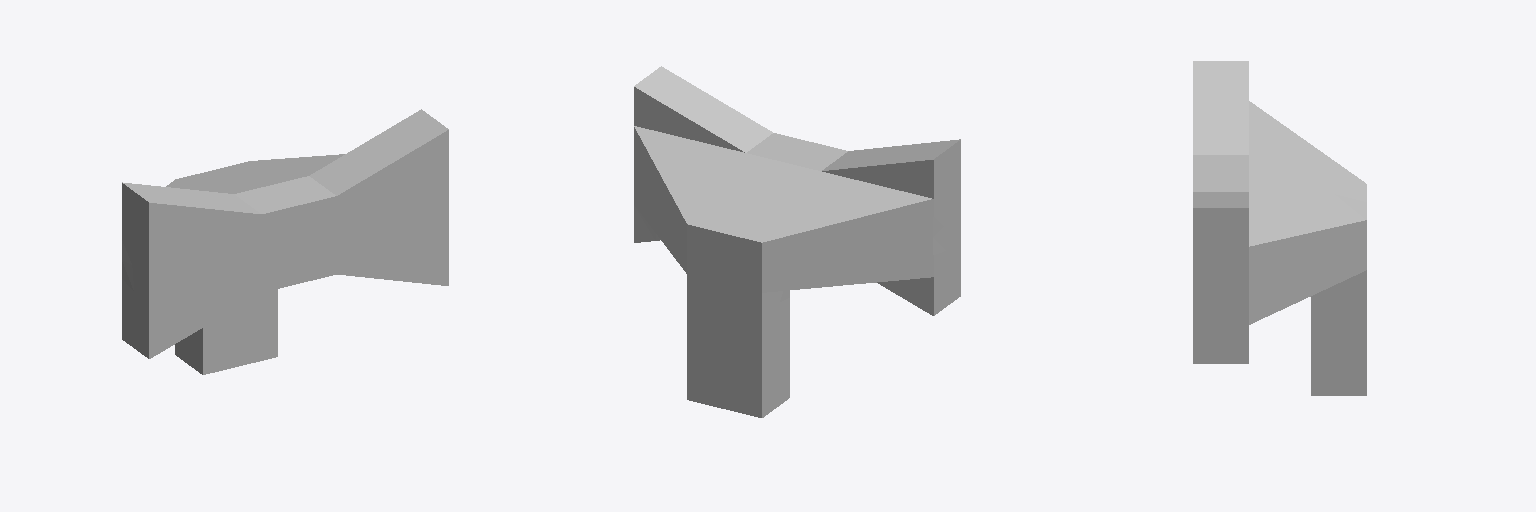
The model's file is bowtie_red.stl__sf.obj.
3 renders of one model, left to right at view 1: azimuth 30°, elevation 25°; view 2: azimuth 150°, elevation 25°; view 3: azimuth 270°, elevation 25°, orthographic.
Bounding box in the file's own units: 12.7 × 9.84 × 6.35.